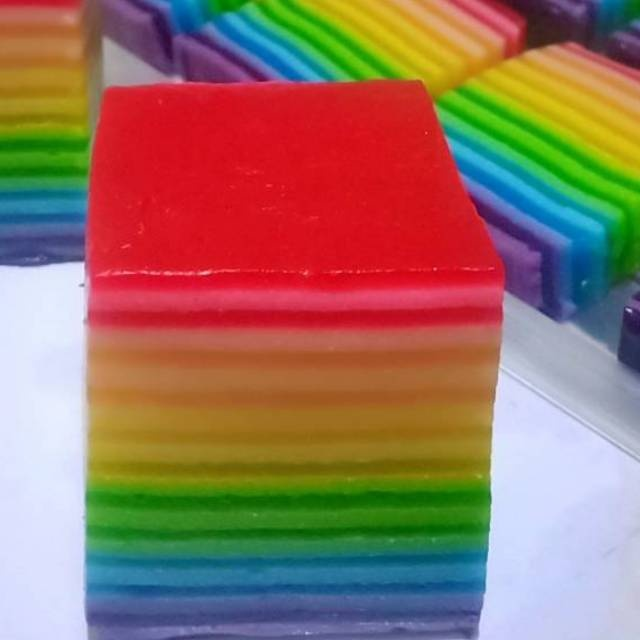kue_lapis_pelangi: (87, 273, 503, 640)
